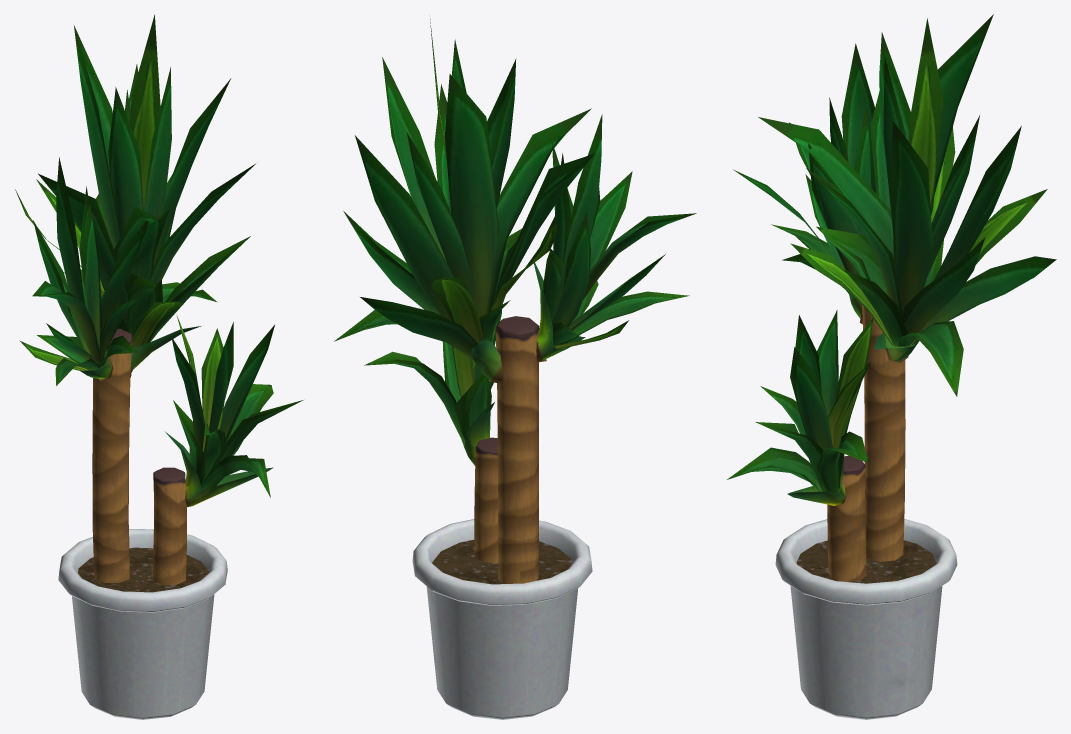
The model's file is plant-yucca.glb.
3 renders of one model, left to right at view 1: azimuth 30°, elevation 25°; view 2: azimuth 150°, elevation 25°; view 3: azimuth 270°, elevation 25°, orthographic. The views are drawn at different scales.
Visible parts, largest first — view 1: FtrPlantYucca_node6, FtrPlantYucca_node7; view 2: FtrPlantYucca_node6, FtrPlantYucca_node7; view 3: FtrPlantYucca_node6, FtrPlantYucca_node7.
Boxes of the visible parts, x1=… form: FtrPlantYucca_node6: x1=15, y1=14, x2=303, y2=506; FtrPlantYucca_node7: x1=58, y1=329, x2=227, y2=719; FtrPlantYucca_node6: x1=334, y1=19, x2=696, y2=465; FtrPlantYucca_node7: x1=412, y1=316, x2=592, y2=719; FtrPlantYucca_node6: x1=727, y1=14, x2=1056, y2=505; FtrPlantYucca_node7: x1=775, y1=305, x2=957, y2=719.
Size of the model in its own units: 9.45 by 21.28 by 9.13.
Materials: 2 (2 with a texture image).
